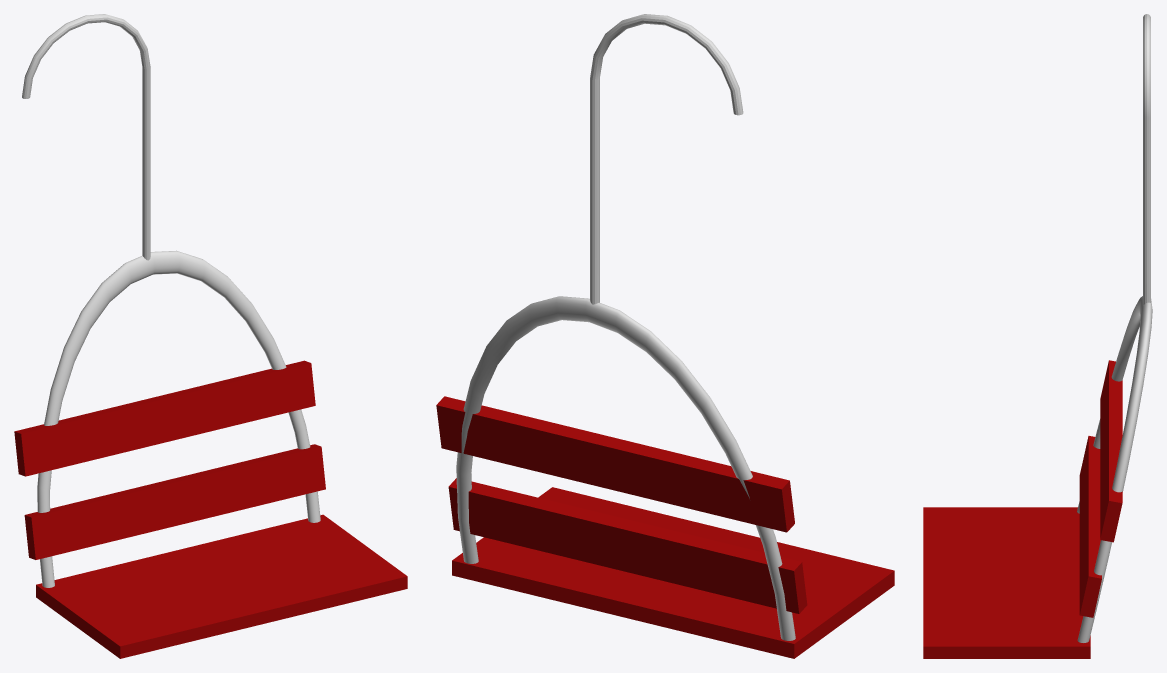
The model's file is SkiLift.fbx.
3 views of the same model, side by side, from view 1: azimuth 30°, elevation 25°; view 2: azimuth 150°, elevation 25°; view 3: azimuth 270°, elevation 25° (orthographic). The views are drawn at different scales.
Visible parts, largest first — view 1: pCube1, pCube2, pCube3, SkiLiftPole1, SkiLiftPole2; view 2: pCube1, pCube3, pCube2, SkiLiftPole1, SkiLiftPole2; view 3: pCube1, SkiLiftPole1, pCube2, pCube3, SkiLiftPole2.
Part boxes in pixels (x1,y1,x2,y2): pCube1: (36, 514, 407, 658); pCube2: (24, 444, 325, 559); pCube3: (14, 360, 315, 476); SkiLiftPole1: (37, 250, 320, 587); SkiLiftPole2: (22, 14, 150, 260); pCube1: (452, 487, 894, 658); pCube3: (436, 396, 794, 532); pCube2: (448, 478, 807, 613); SkiLiftPole1: (456, 296, 795, 640); SkiLiftPole2: (590, 14, 743, 304); pCube1: (923, 507, 1090, 658); SkiLiftPole1: (1077, 296, 1152, 642); pCube2: (1079, 436, 1101, 617); pCube3: (1100, 360, 1122, 542); SkiLiftPole2: (1143, 14, 1150, 305).
Size of the model in its own units: 5.81 by 10.25 by 3.96.
